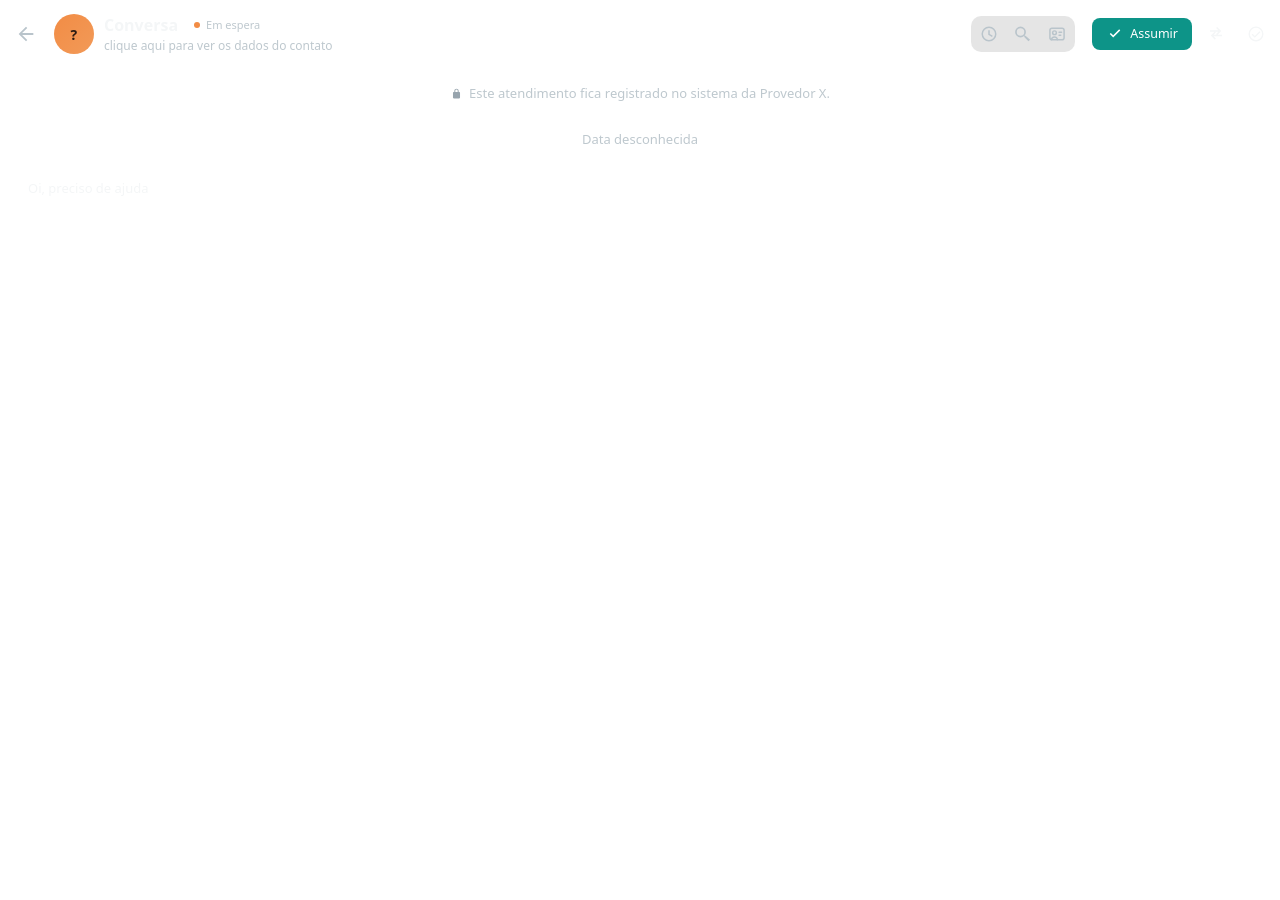
ConversationView › o aviso de uma conversa fecha quando se troca de conversa
Click the button "Assumir".
click(1142, 34)  # box [1092, 18, 1192, 50]
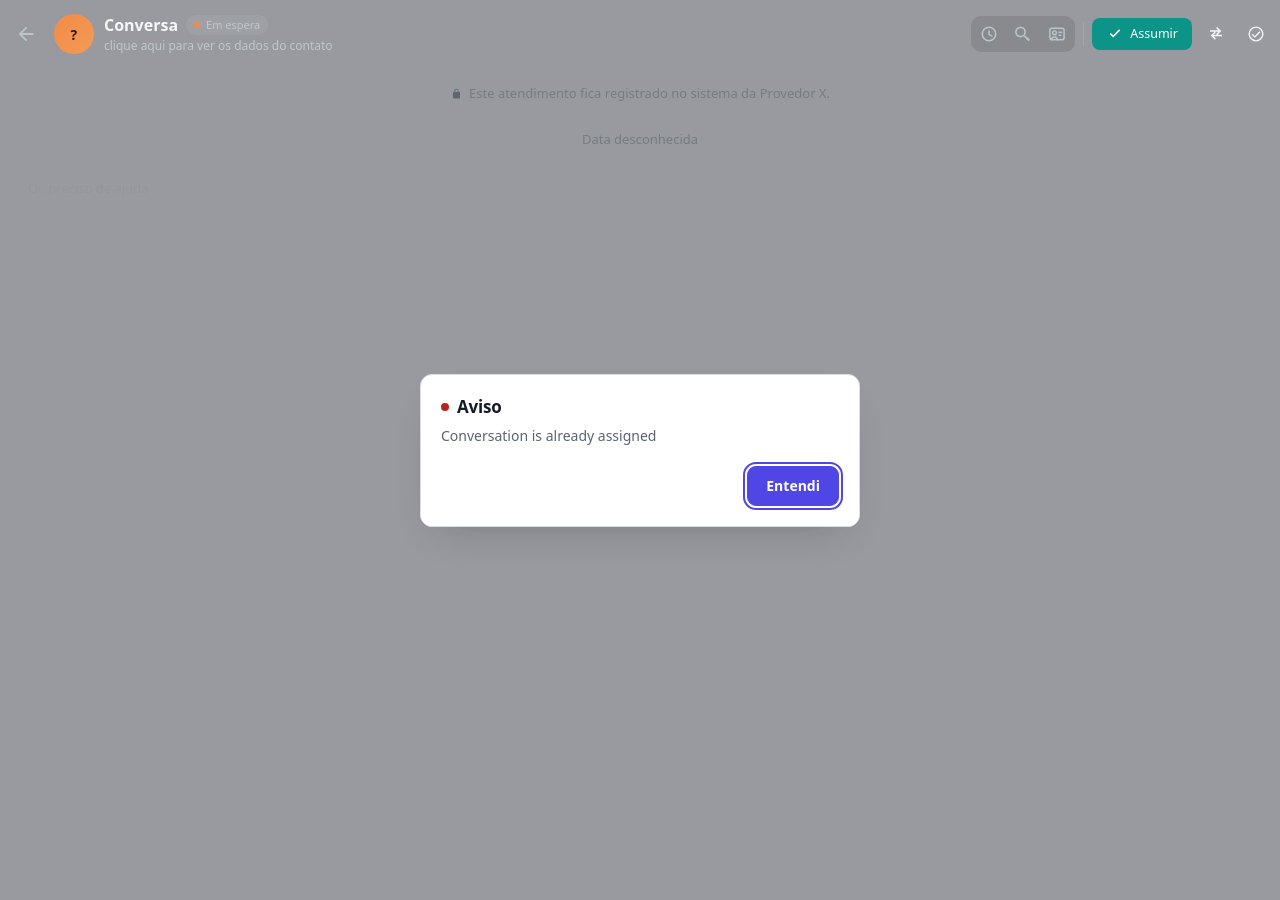
Now the dialog is shown, box [420, 374, 860, 526]
